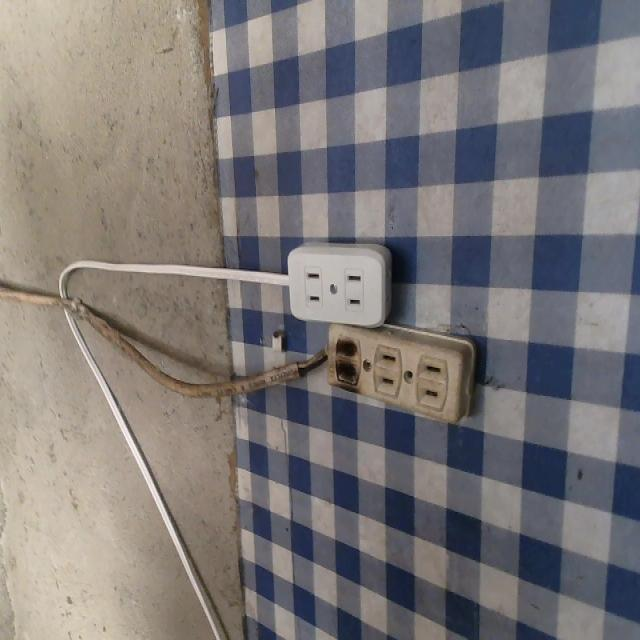-: (330, 328, 361, 393)
